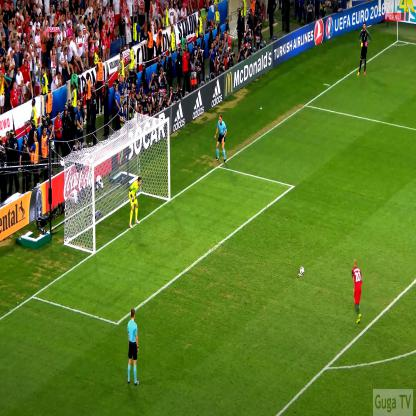penalty kick: (62, 107, 390, 314)
